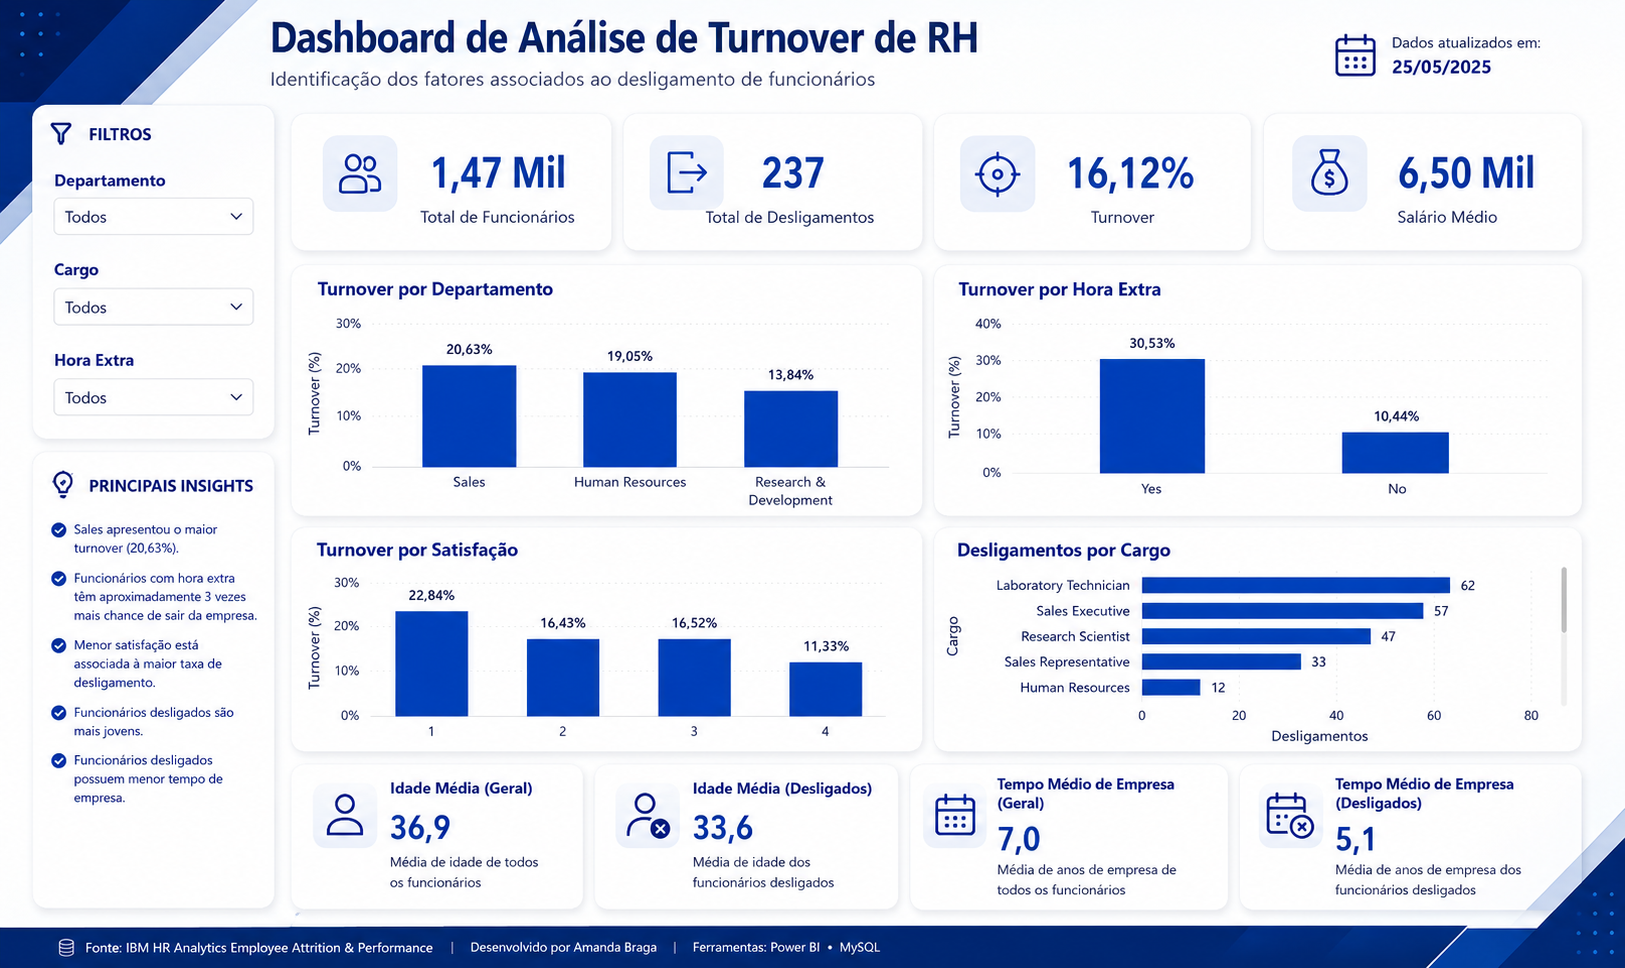

The page's visual inventory and layout, read from the dashboard file:
{"tool":"powerbi","page":{"name":"Página 1","canvas":[1280,720],"ordinal":0},"visuals":[{"type":"cardVisual","fields":{"Data":["Count(WA_Fn-UseC_-HR-Employee-Attrition.EmployeeNumber)"]},"box":[313.2,86.6,158.5,111.9],"z":0},{"type":"cardVisual","fields":{"Data":["WA_Fn-UseC_-HR-Employee-Attrition.Total Desligamentos"]},"box":[581.6,86.6,115.7,96.3],"z":1000},{"type":"cardVisual","fields":{"Data":["WA_Fn-UseC_-HR-Employee-Attrition.Turnover %"]},"box":[813.1,78.8,179.9,104.1],"z":2000},{"type":"cardVisual","fields":{"Data":["WA_Fn-UseC_-HR-Employee-Attrition.Salário Médio"]},"box":[1050.5,86.6,164.4,96.3],"z":3000},{"type":"clusteredColumnChart","title":"Turnover por Hora Extra","fields":{"Category":["WA_Fn-UseC_-HR-Employee-Attrition.Department"],"Y":["WA_Fn-UseC_-HR-Employee-Attrition.Turnover Departamento"]},"box":[291.8,246.1,423.1,147.8],"z":4000},{"type":"clusteredColumnChart","title":"Turnover por Satisfação","fields":{"Category":["WA_Fn-UseC_-HR-Employee-Attrition.OverTime"],"Y":["WA_Fn-UseC_-HR-Employee-Attrition.Turnover Departamento"]},"box":[754.8,223.7,476.6,170.2],"z":5000},{"type":"clusteredColumnChart","fields":{"Category":["WA_Fn-UseC_-HR-Employee-Attrition.JobSatisfaction"],"Y":["WA_Fn-UseC_-HR-Employee-Attrition.Turnover Departamento"]},"box":[291.8,411.4,442.6,183.8],"z":6000},{"type":"clusteredBarChart","title":"Desligamentos por Cargo","fields":{"Category":["WA_Fn-UseC_-HR-Employee-Attrition.JobRole"],"Y":["WA_Fn-UseC_-HR-Employee-Attrition.Desligamentos"]},"box":[791.7,431.9,424.1,152.7],"z":7000},{"type":"cardVisual","fields":{"Data":["WA_Fn-UseC_-HR-Employee-Attrition.Idade Média"]},"box":[322.9,605,140.1,109.9],"z":8000},{"type":"cardVisual","fields":{"Data":["WA_Fn-UseC_-HR-Employee-Attrition.Idade Média Desligados"]},"box":[580.7,600.1,153.7,119.6],"z":9000},{"type":"cardVisual","fields":{"Data":["WA_Fn-UseC_-HR-Employee-Attrition.Tempo Médio Empresa"]},"box":[827.7,609.8,119.6,101.2],"z":10000},{"type":"cardVisual","fields":{"Data":["WA_Fn-UseC_-HR-Employee-Attrition.Tempo Médio Desligados"]},"box":[1061.2,600.1,127.4,119.6],"z":11000},{"type":"slicer","title":"Departamento","fields":{"Values":["WA_Fn-UseC_-HR-Employee-Attrition.Department"]},"box":[43.8,143,189.7,63.2],"z":12000},{"type":"slicer","title":"Cargo","fields":{"Values":["WA_Fn-UseC_-HR-Employee-Attrition.JobRole"]},"box":[43.8,214,189.7,63.2],"z":13000},{"type":"slicer","title":"Hora Extra","fields":{"Values":["WA_Fn-UseC_-HR-Employee-Attrition.OverTime"]},"box":[43.8,296.7,189.7,63.2],"z":14000},{"type":"textbox","box":[26.3,450.3,206.2,243.2],"z":15000}]}

Visuals, with their boxes on the page's 1280x720 design canvas (x1, y1, x2, y2). These are canvas units, not pixel positions in the 1625x968 screenshot, which may show the page scaled, cropped or inside an application window:
cardVisual - Count(WA_Fn-UseC_-HR-Employee-Attrition.EmployeeNumber): (313,87,472,198)
cardVisual - WA_Fn-UseC_-HR-Employee-Attrition.Total Desligamentos: (582,87,697,183)
cardVisual - WA_Fn-UseC_-HR-Employee-Attrition.Turnover %: (813,79,993,183)
cardVisual - WA_Fn-UseC_-HR-Employee-Attrition.Salário Médio: (1050,87,1215,183)
"Turnover por Hora Extra" clusteredColumnChart: (292,246,715,394)
"Turnover por Satisfação" clusteredColumnChart: (755,224,1231,394)
clusteredColumnChart - WA_Fn-UseC_-HR-Employee-Attrition.JobSatisfaction x WA_Fn-UseC_-HR-Employee-Attrition.Turnover Departamento: (292,411,734,595)
"Desligamentos por Cargo" clusteredBarChart: (792,432,1216,585)
cardVisual - WA_Fn-UseC_-HR-Employee-Attrition.Idade Média: (323,605,463,715)
cardVisual - WA_Fn-UseC_-HR-Employee-Attrition.Idade Média Desligados: (581,600,734,720)
cardVisual - WA_Fn-UseC_-HR-Employee-Attrition.Tempo Médio Empresa: (828,610,947,711)
cardVisual - WA_Fn-UseC_-HR-Employee-Attrition.Tempo Médio Desligados: (1061,600,1189,720)
"Departamento" slicer: (44,143,234,206)
"Cargo" slicer: (44,214,234,277)
"Hora Extra" slicer: (44,297,234,360)
textbox: (26,450,232,694)
